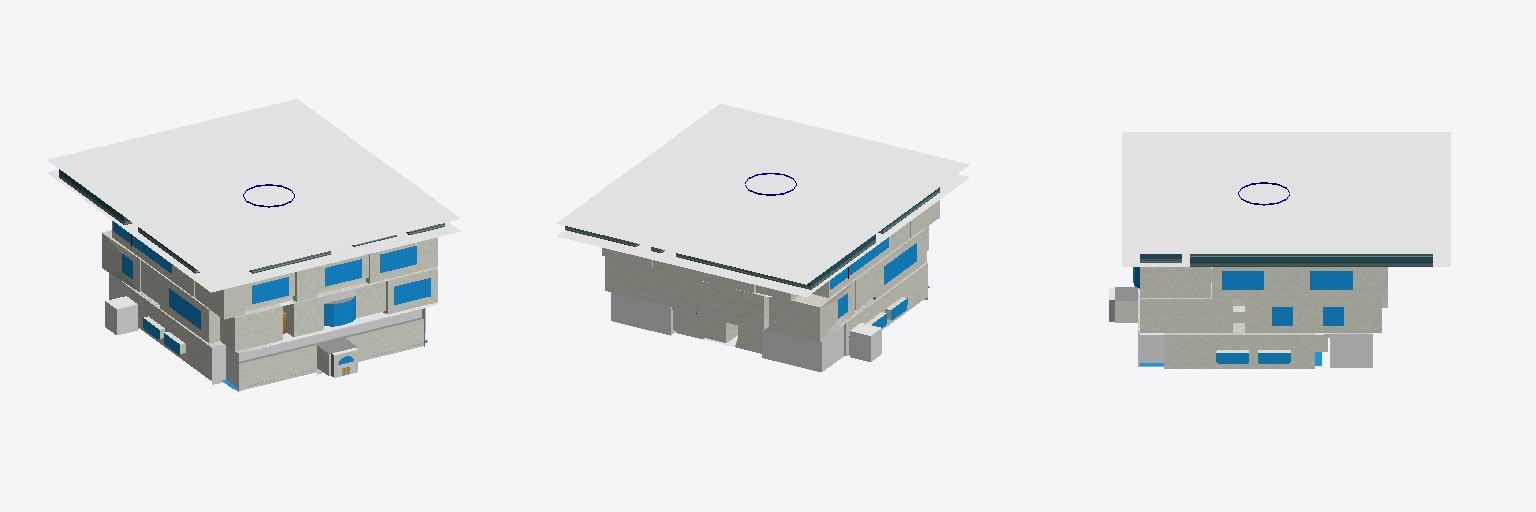
3 renders of one model, left to right at view 1: azimuth 30°, elevation 25°; view 2: azimuth 150°, elevation 25°; view 3: azimuth 270°, elevation 25°, orthographic.
Visible parts, largest first — view 1: Mesh.001_Mesh_delfino4_No_Texture_RemDupVer; view 2: Mesh.001_Mesh_delfino4_No_Texture_RemDupVer; view 3: Mesh.001_Mesh_delfino4_No_Texture_RemDupVer.
Boxes of the visible parts, <box> form: Mesh.001_Mesh_delfino4_No_Texture_RemDupVer: <box>47,99,460,391</box>; Mesh.001_Mesh_delfino4_No_Texture_RemDupVer: <box>556,104,969,371</box>; Mesh.001_Mesh_delfino4_No_Texture_RemDupVer: <box>1109,132,1450,368</box>.
Size of the model in its own units: 56.3 by 27.82 by 65.74.
41 materials, 8 textured.